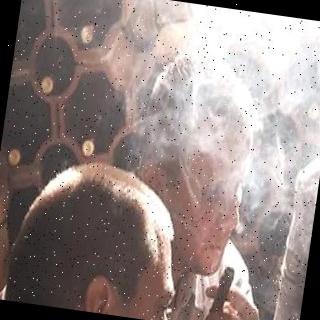smoke: (132, 0, 320, 221)
